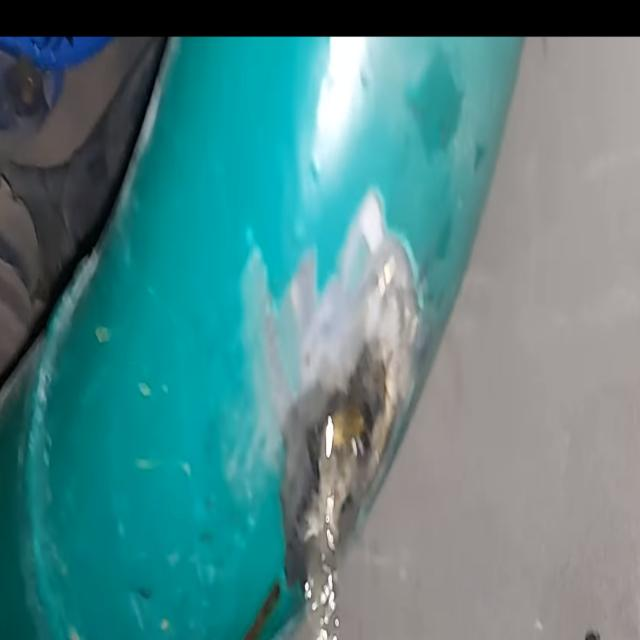leak: (282, 374, 386, 638)
